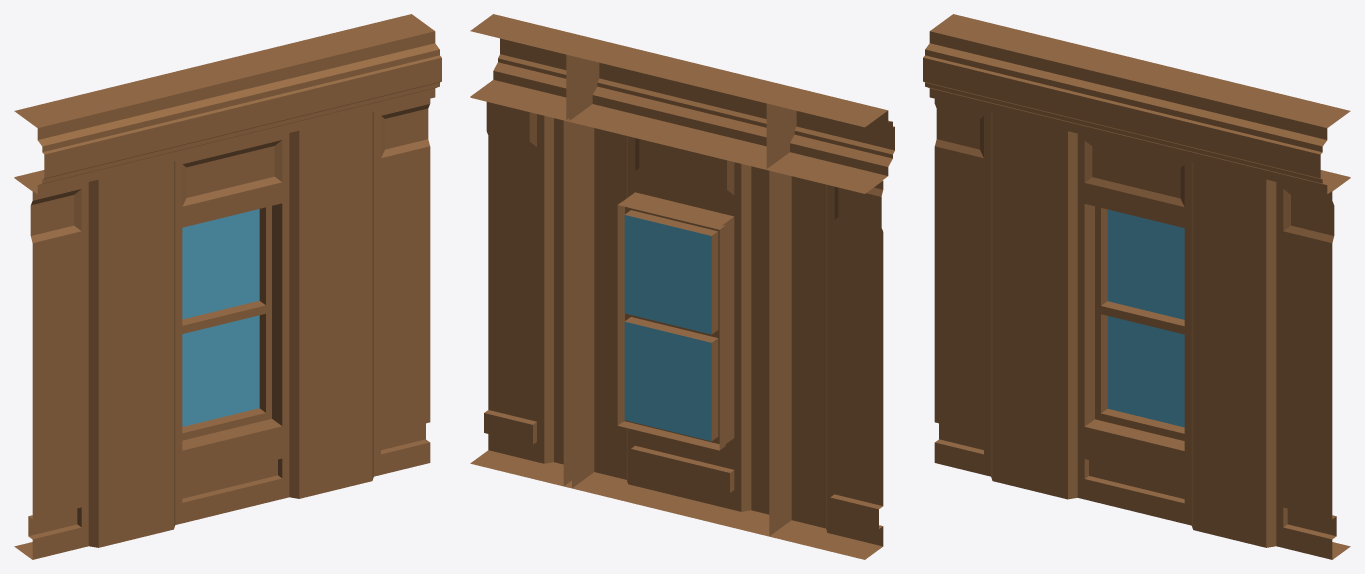
Rendered from O_V_FacadeType2_Mid_Up.fbx.
The picture shows the model from 3 angles, left to right: view 1: azimuth 30°, elevation 25°; view 2: azimuth 150°, elevation 25°; view 3: azimuth 330°, elevation 25°; orthographic projection.
Visible parts, largest first — view 1: O_FacadeType2_Mid_Up; view 2: O_FacadeType2_Mid_Up; view 3: O_FacadeType2_Mid_Up.
Boxes of the visible parts, x1=… form: O_FacadeType2_Mid_Up: x1=14, y1=14, x2=441, y2=559; O_FacadeType2_Mid_Up: x1=470, y1=14, x2=894, y2=559; O_FacadeType2_Mid_Up: x1=923, y1=14, x2=1350, y2=559.
Bounding box in the file's own units: 6.21 × 6.5 × 0.818.
